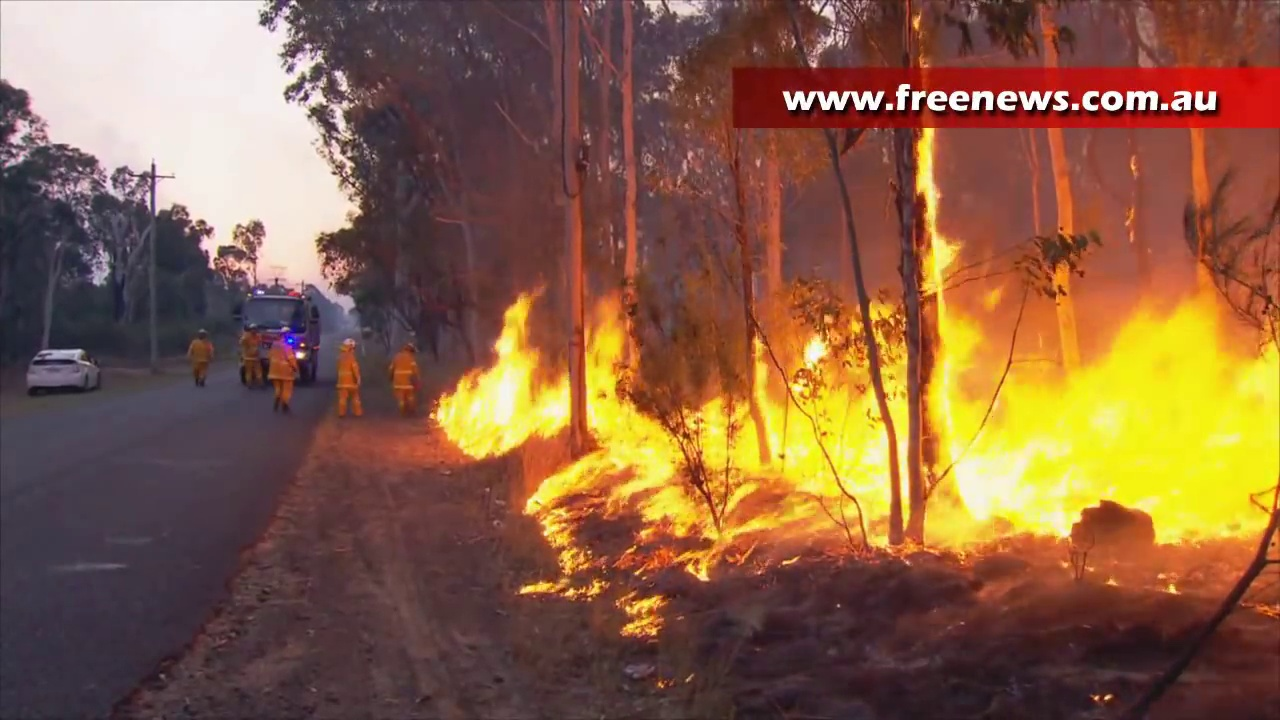fire: (582, 308, 1280, 553), (434, 294, 543, 459), (544, 497, 591, 582), (919, 135, 934, 272), (624, 599, 657, 633)
